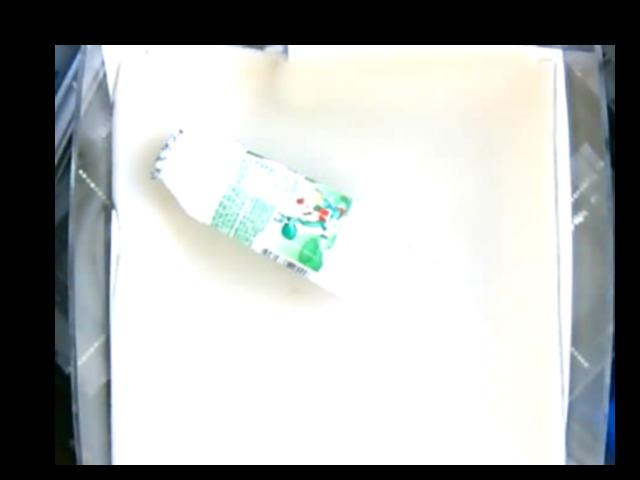Bottle: (148, 128, 385, 297)
